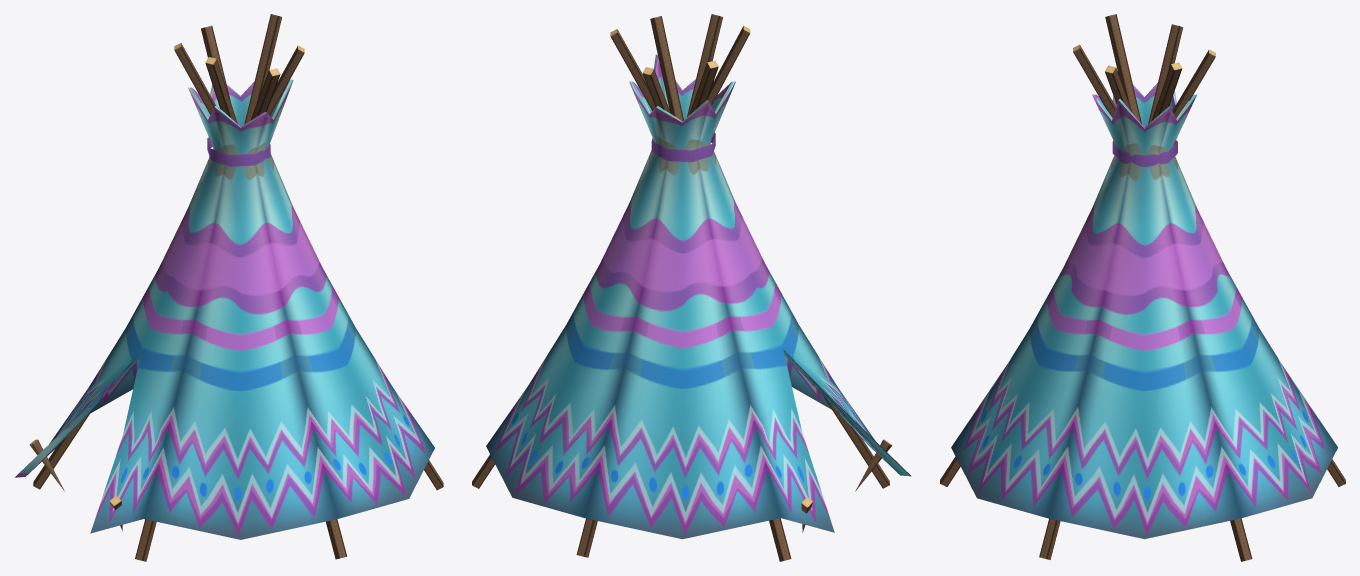
File: Teepee_03.FBX
The picture shows the model from 3 angles, left to right: view 1: azimuth 30°, elevation 25°; view 2: azimuth 150°, elevation 25°; view 3: azimuth 270°, elevation 25°; orthographic projection.
Parts seen in each view (by area): view 1: Teepee_03; view 2: Teepee_03; view 3: Teepee_03.
Part boxes in pixels (x1,y1,x2,y2): Teepee_03: (15,14,443,561); Teepee_03: (472,14,911,561); Teepee_03: (940,14,1345,561).
Bounding box in the file's own units: 5.12 × 6.22 × 5.07.
